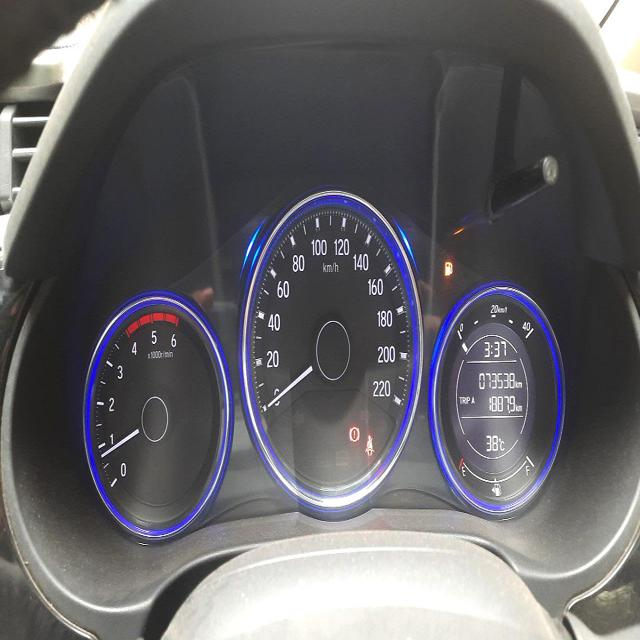odometer: (476, 369, 516, 391)
